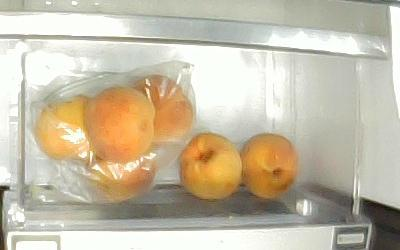peach: (82, 84, 156, 163), (176, 130, 242, 199), (239, 131, 298, 198)
peach_vinyl: (32, 93, 94, 161), (131, 73, 194, 138), (86, 150, 157, 200)
